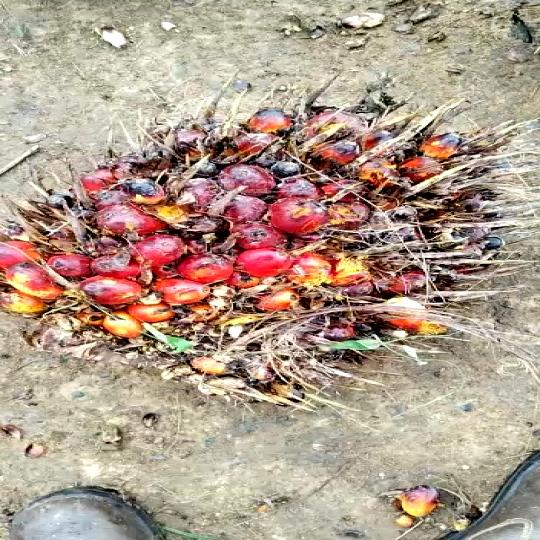masak: (0, 70, 540, 420)
